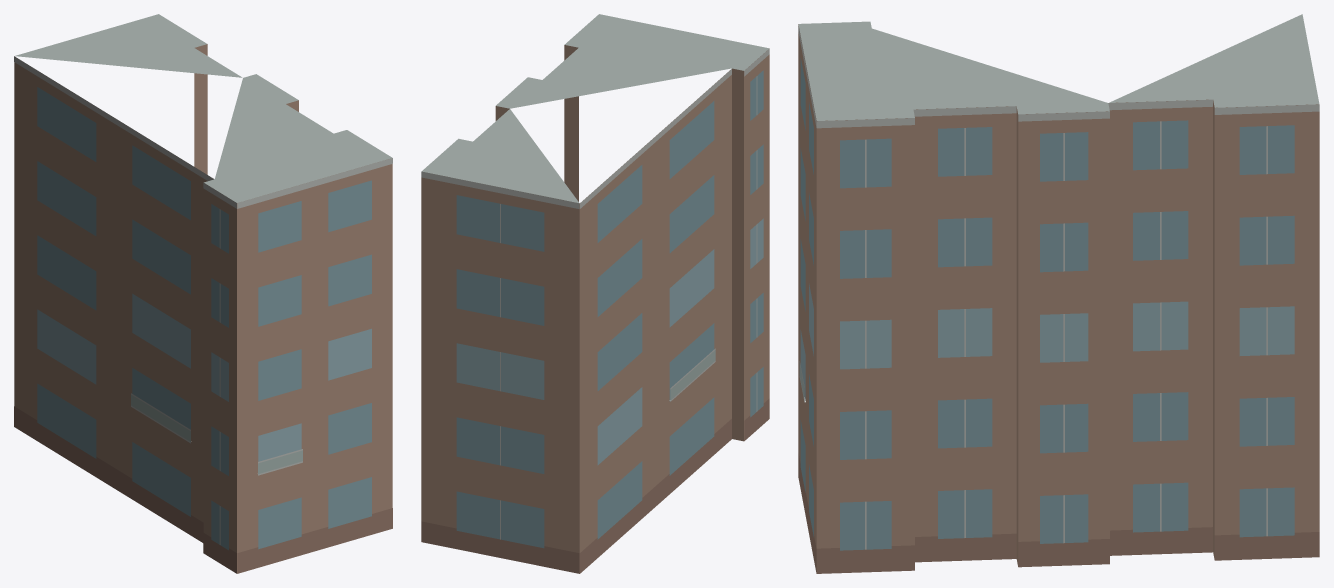
Rendered from survey-upis-33008692.glb.
3 renders of one model, left to right at view 1: azimuth 30°, elevation 25°; view 2: azimuth 150°, elevation 25°; view 3: azimuth 270°, elevation 25°, orthographic. The views are drawn at different scales.
Parts seen in each view (by area): view 1: survey-upis-33008692.tmp; view 2: survey-upis-33008692.tmp; view 3: survey-upis-33008692.tmp.
Boxes of the visible parts, left/top/right/bottom form: survey-upis-33008692.tmp: left=14, top=14, right=392, bottom=573; survey-upis-33008692.tmp: left=421, top=14, right=769, bottom=573; survey-upis-33008692.tmp: left=798, top=14, right=1319, bottom=573.
Size of the model in its own units: 7.74 by 15.25 by 15.92.
